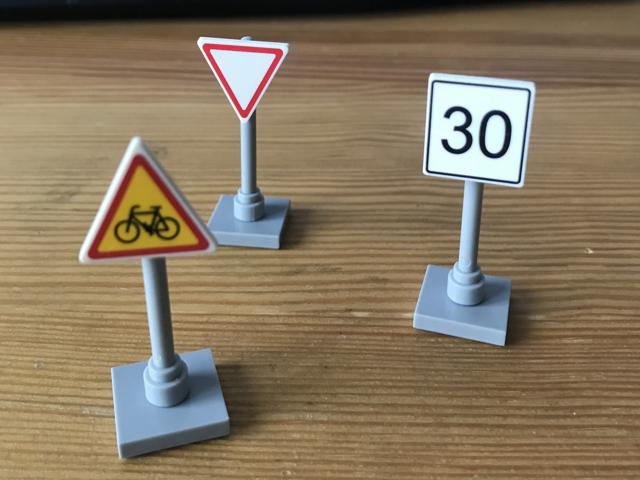radfahrer: (76, 136, 216, 265)
tempolimit 30: (421, 71, 541, 187)
vorfahrt gewähren: (192, 30, 290, 123)
